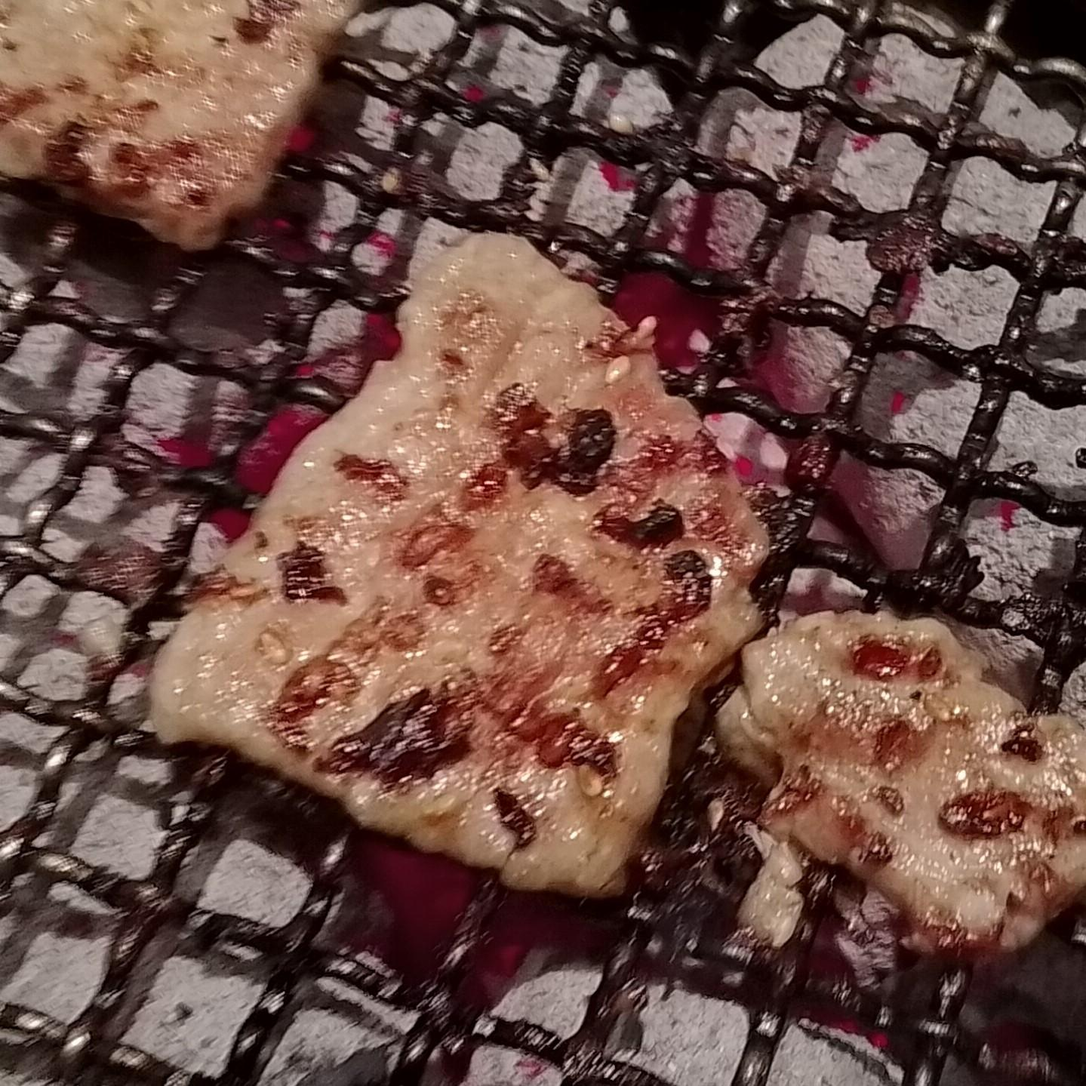Overcooked: (149, 234, 768, 897)
Well-Cooked: (717, 611, 1085, 955), (0, 0, 361, 250)
